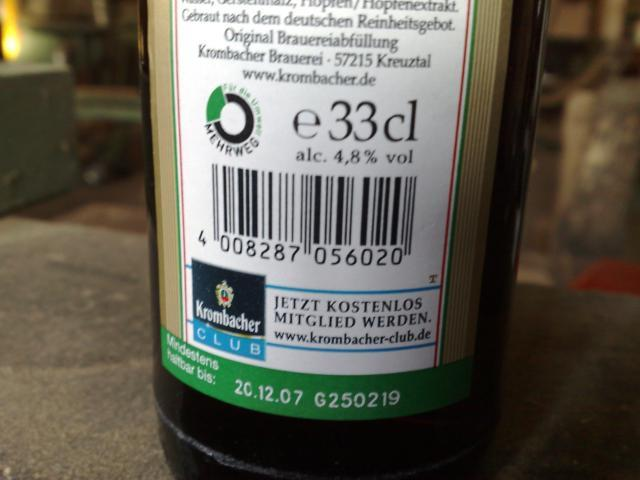Barcode: (191, 159, 426, 272)
